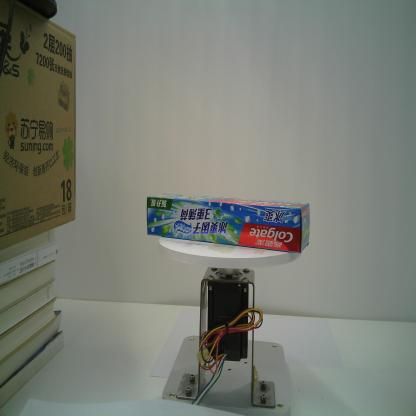Personal Hygiene: (145, 191, 310, 254)
